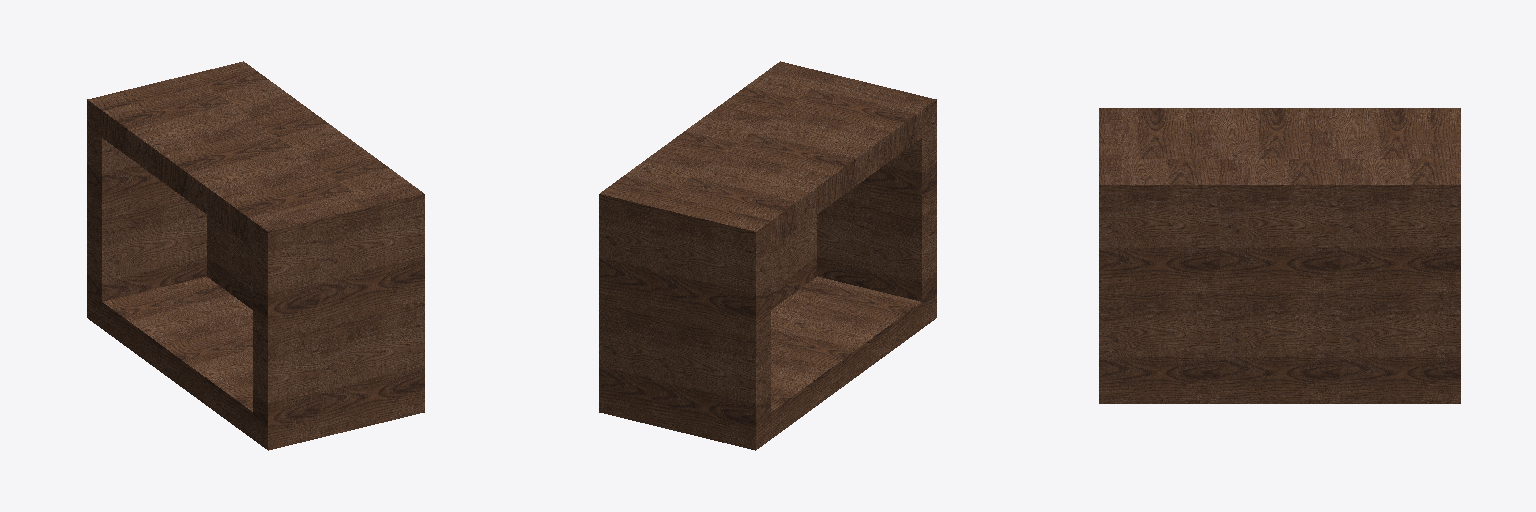
3 views of the same model, side by side, from view 1: azimuth 30°, elevation 25°; view 2: azimuth 150°, elevation 25°; view 3: azimuth 270°, elevation 25° (orthographic).
Visible parts, largest first — view 1: Cabinet; view 2: Cabinet; view 3: Cabinet.
Boxes of the visible parts, box(x1,y1,x2,y2) form: Cabinet: box(87, 61, 424, 450); Cabinet: box(599, 61, 936, 450); Cabinet: box(1099, 108, 1460, 403).
Bounding box in the file's own units: 1.5 × 2 × 3.
Materials: 1 (1 with a texture image).